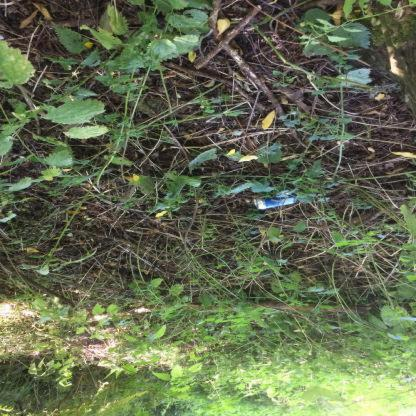Can: (254, 193, 296, 209)
